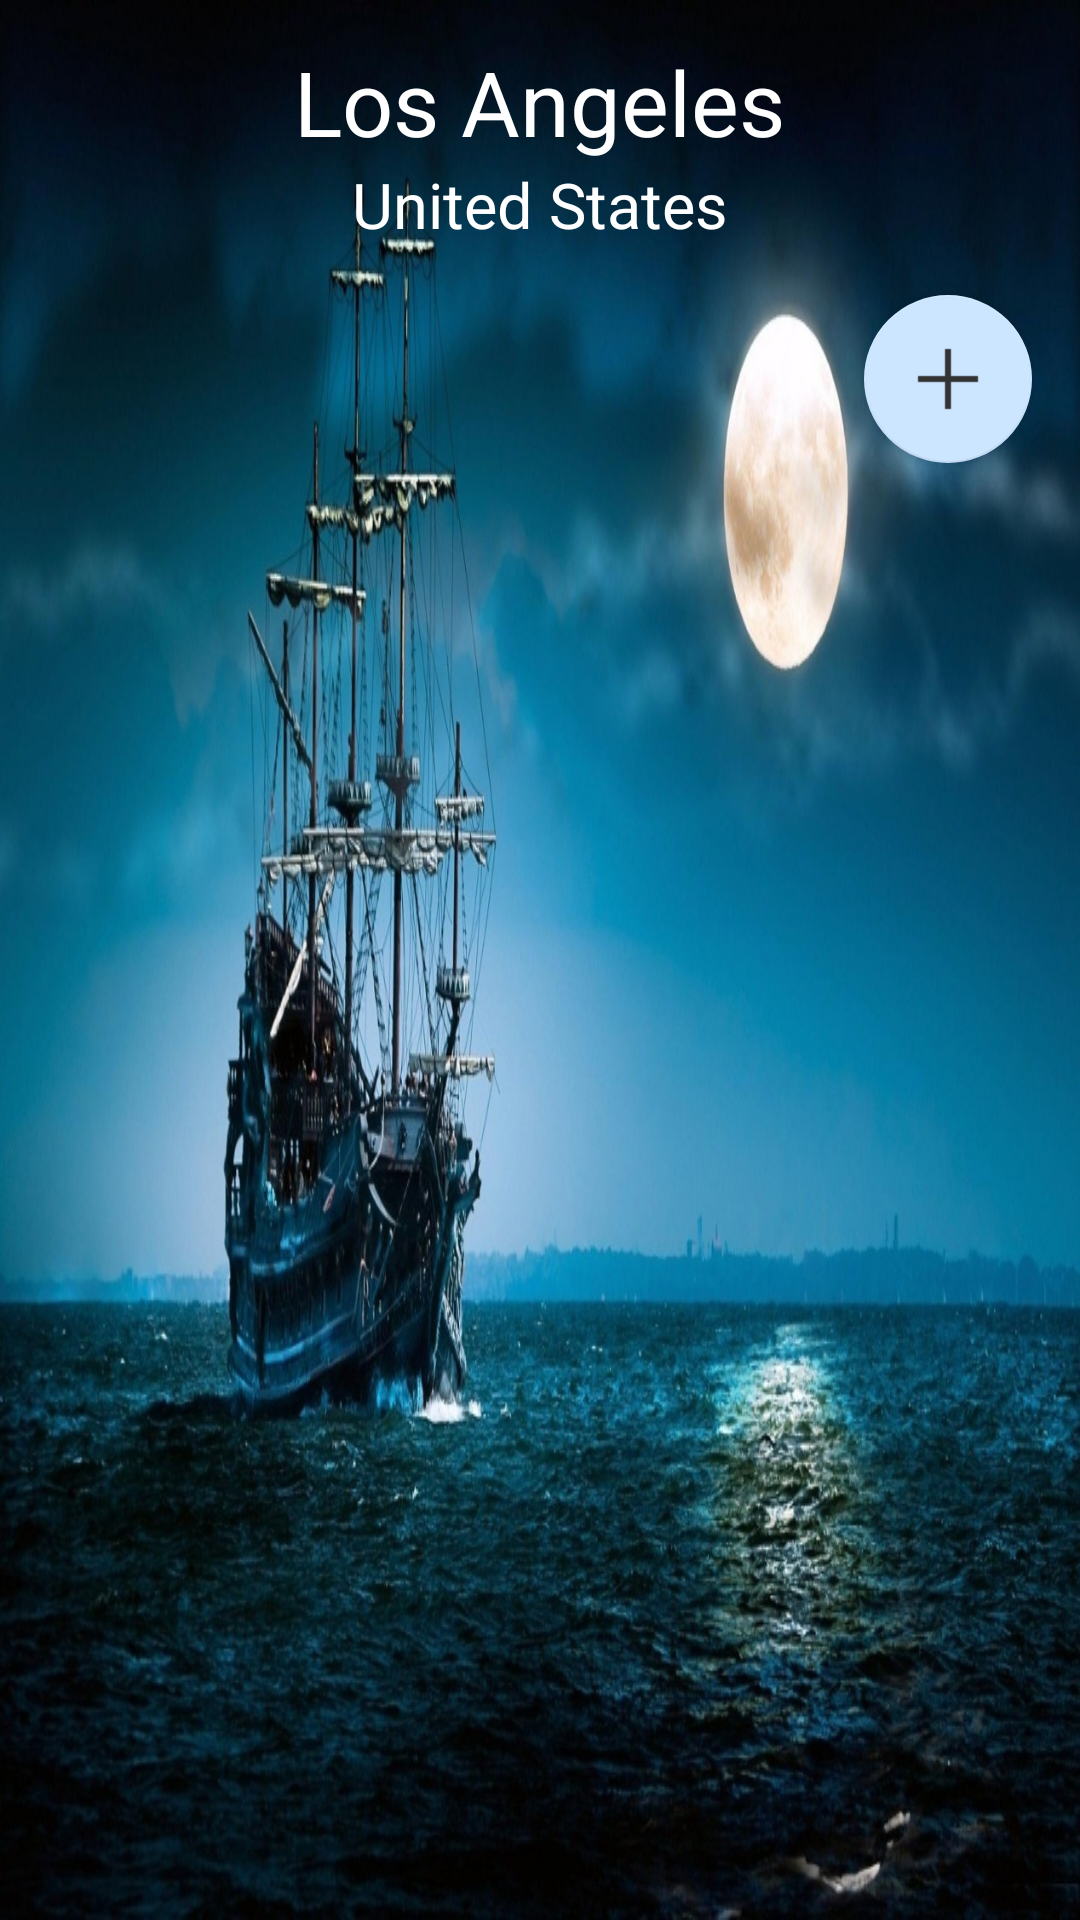

Point at icon controls on the screen. Image size 1080 x 1920, points as [x,y].
add: [948,379]
